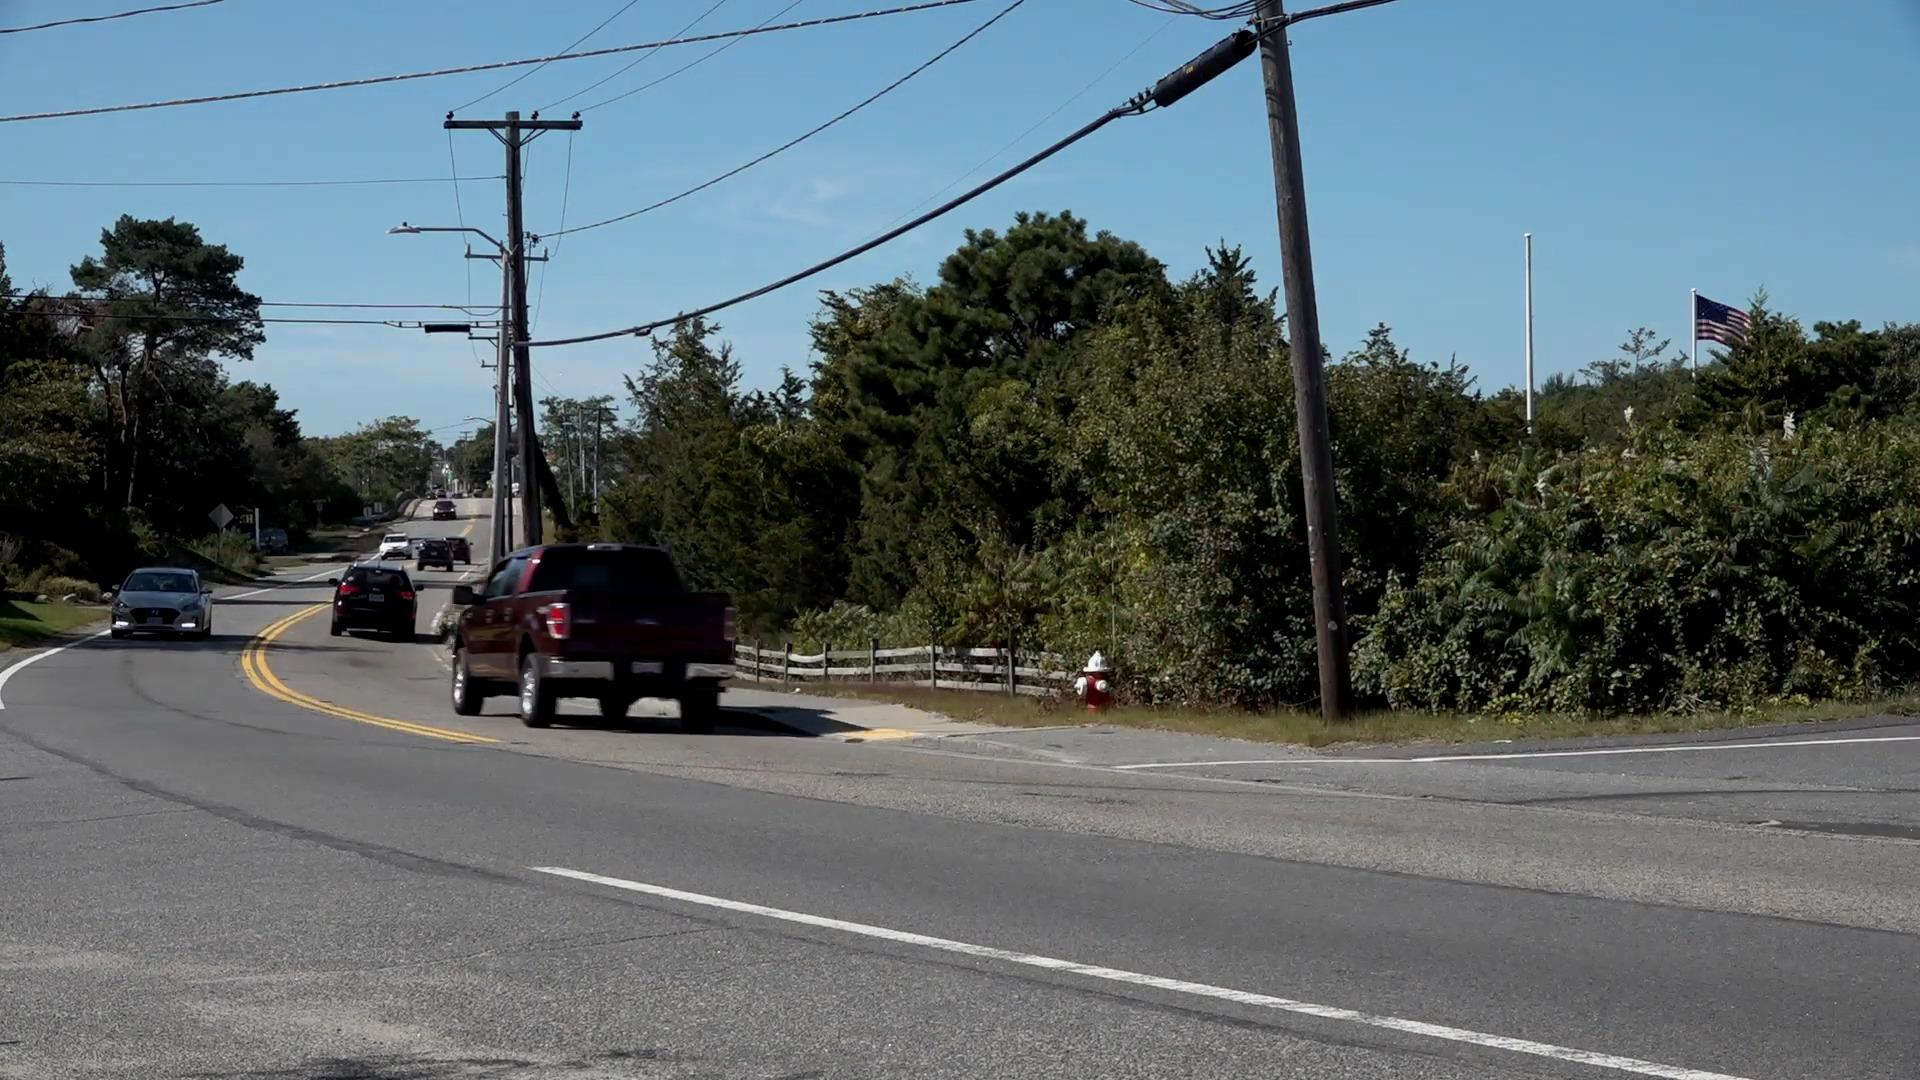pickup: (452, 541, 745, 733)
sedans: (109, 567, 215, 638)
suv: (334, 560, 423, 644)
